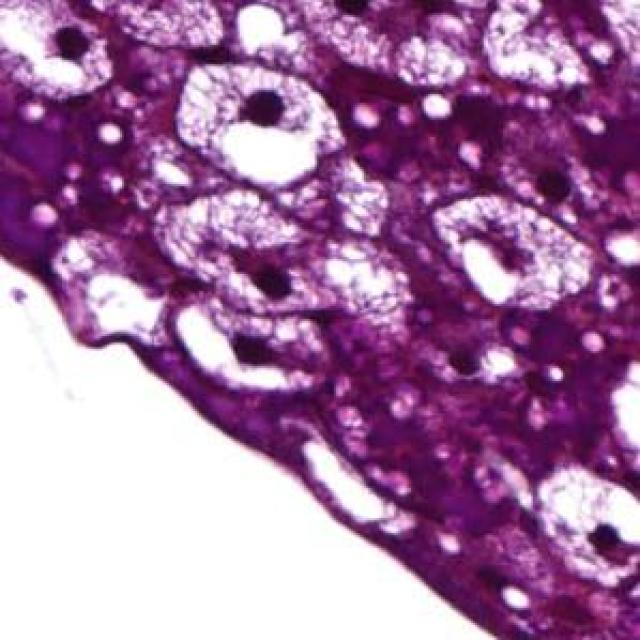ballooning: (146, 182, 418, 317), (169, 54, 351, 199), (428, 190, 599, 312), (278, 0, 492, 94), (171, 289, 330, 396), (531, 460, 640, 595)
